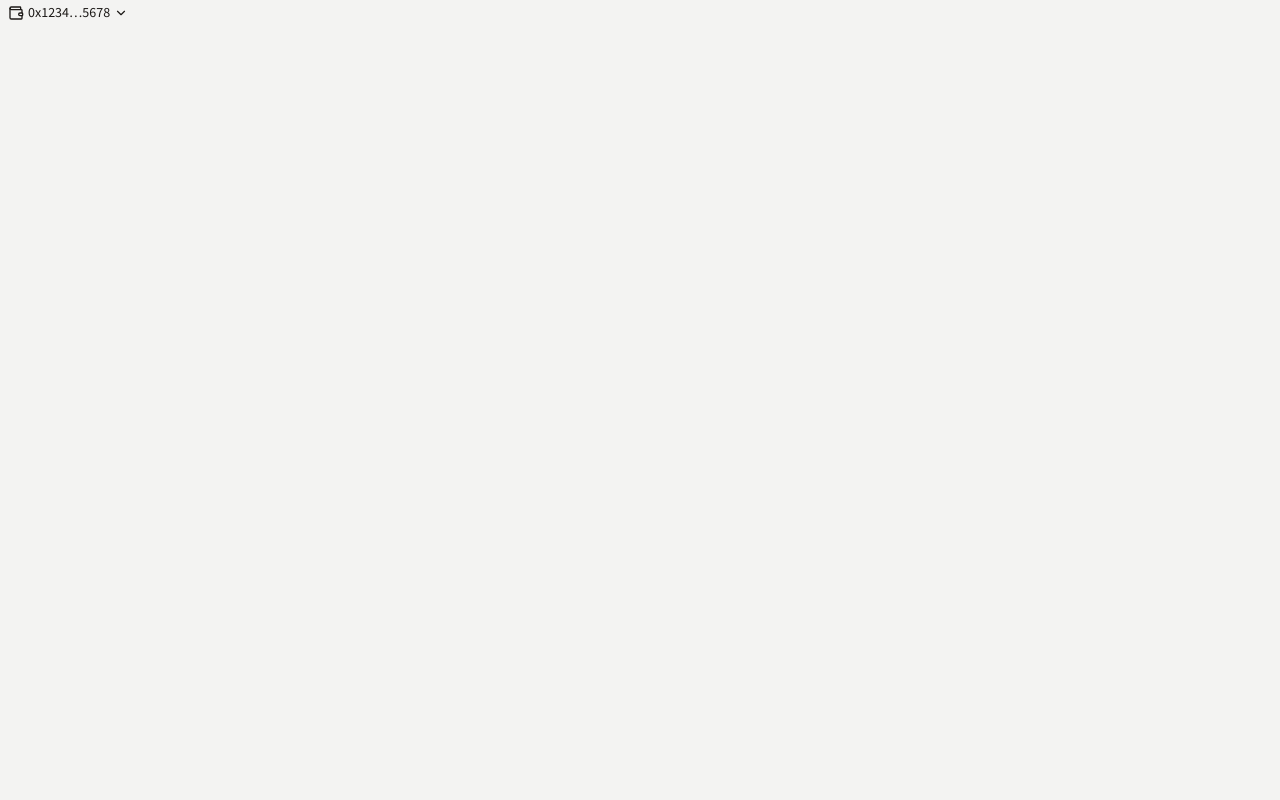
Test case: WalletButton — wallet connected (non-watch) › shows Copy address, Switch wallet and Disconnect even without onWatchSubmit
Click the button named "wallet" at (68, 13), box [0,0,136,26]
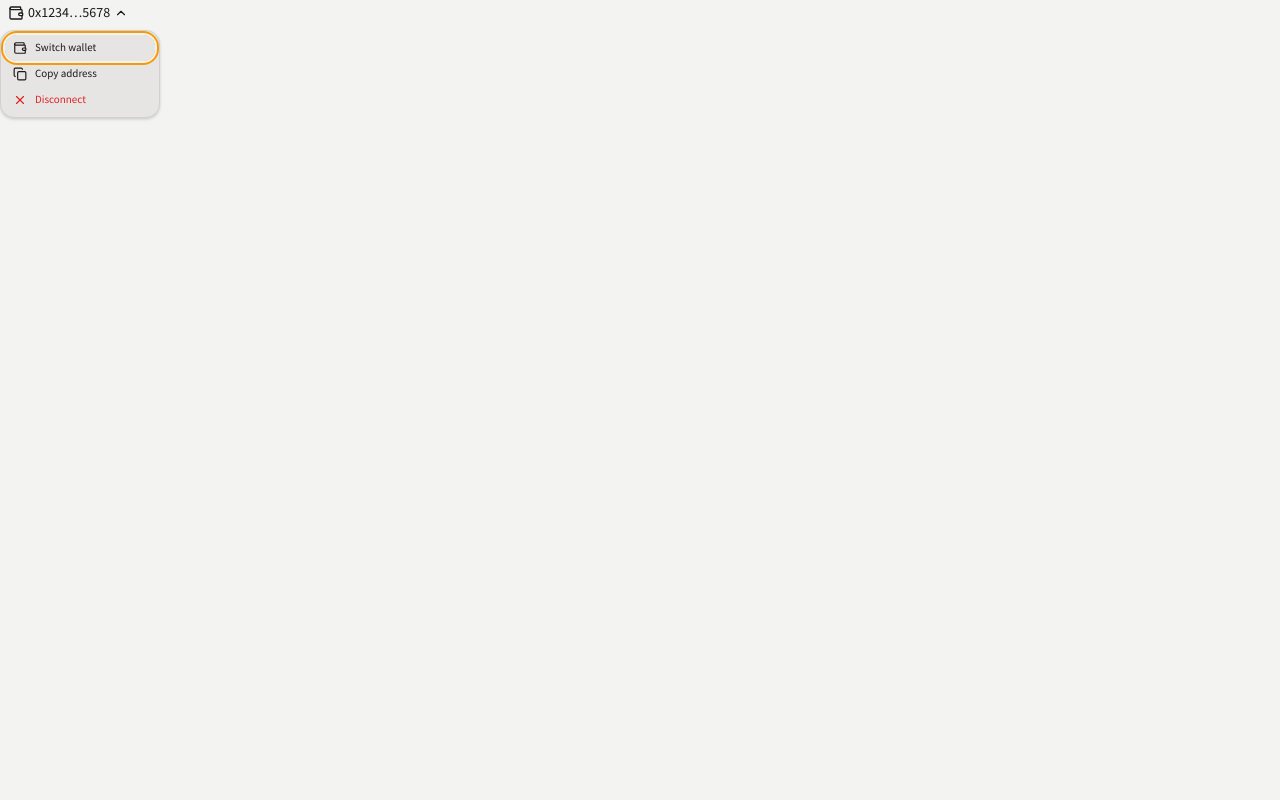
Expected: the button "Copy address" is shown, [5,61,155,87]
Expected: the button "Switch wallet" is shown, [5,35,155,61]
Expected: the button "Disconnect" is shown, [5,87,155,113]
